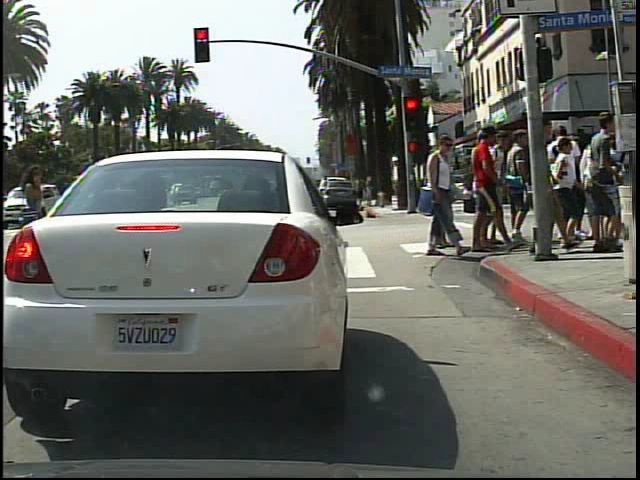person: (418, 129, 471, 264)
